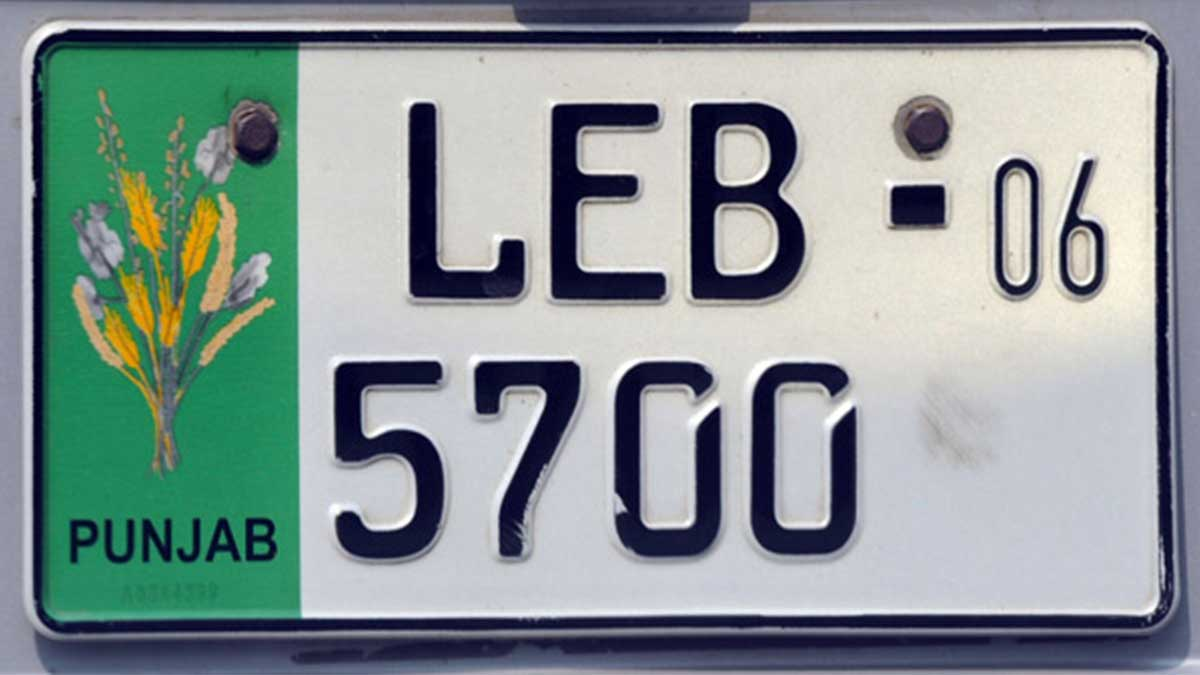Number Plate (Car): (21, 22, 1174, 633)
